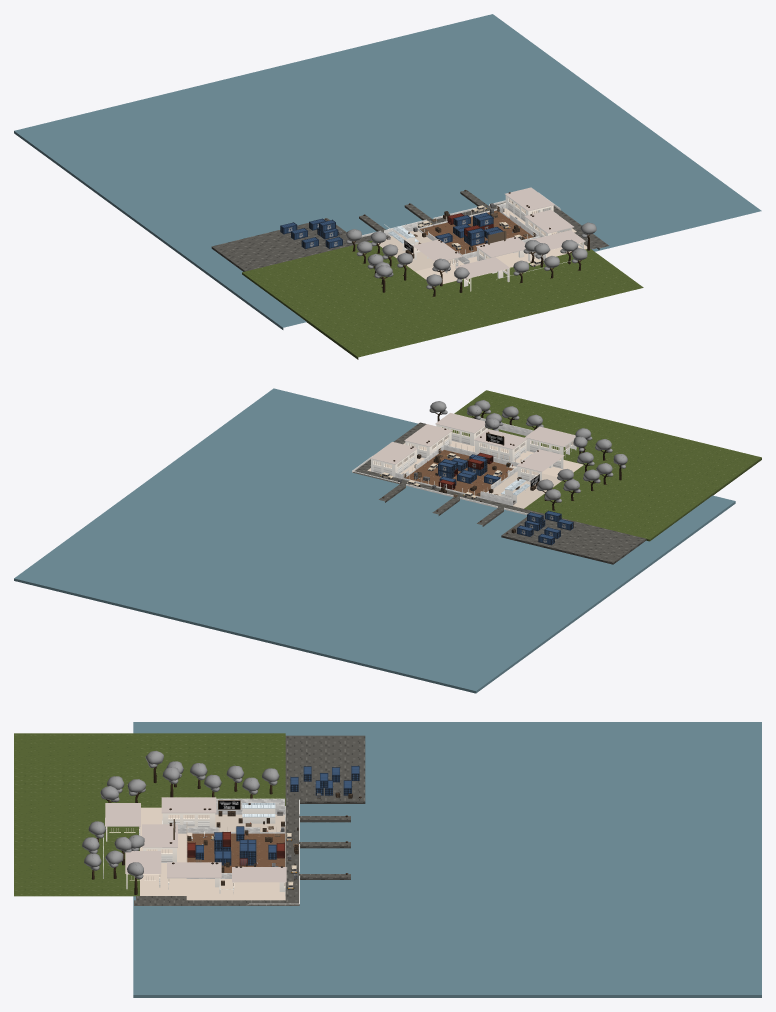
File: krunker-shipyard.glb
3 views of the same model, one above another, from view 1: azimuth 30°, elevation 25°; view 2: azimuth 150°, elevation 25°; view 3: azimuth 270°, elevation 25° (orthographic). The views are drawn at different scales.
Parts seen in each view (by area): view 1: Shipyard.gltf_43; view 2: Shipyard.gltf_43; view 3: Shipyard.gltf_43.
Boxes of the visible parts, <box> form: Shipyard.gltf_43: <box>14,14,761,359</box>; Shipyard.gltf_43: <box>14,388,761,693</box>; Shipyard.gltf_43: <box>14,722,761,997</box>.
Size of the model in its own units: 2011 by 285 by 2330.
29 materials, 28 textured.
